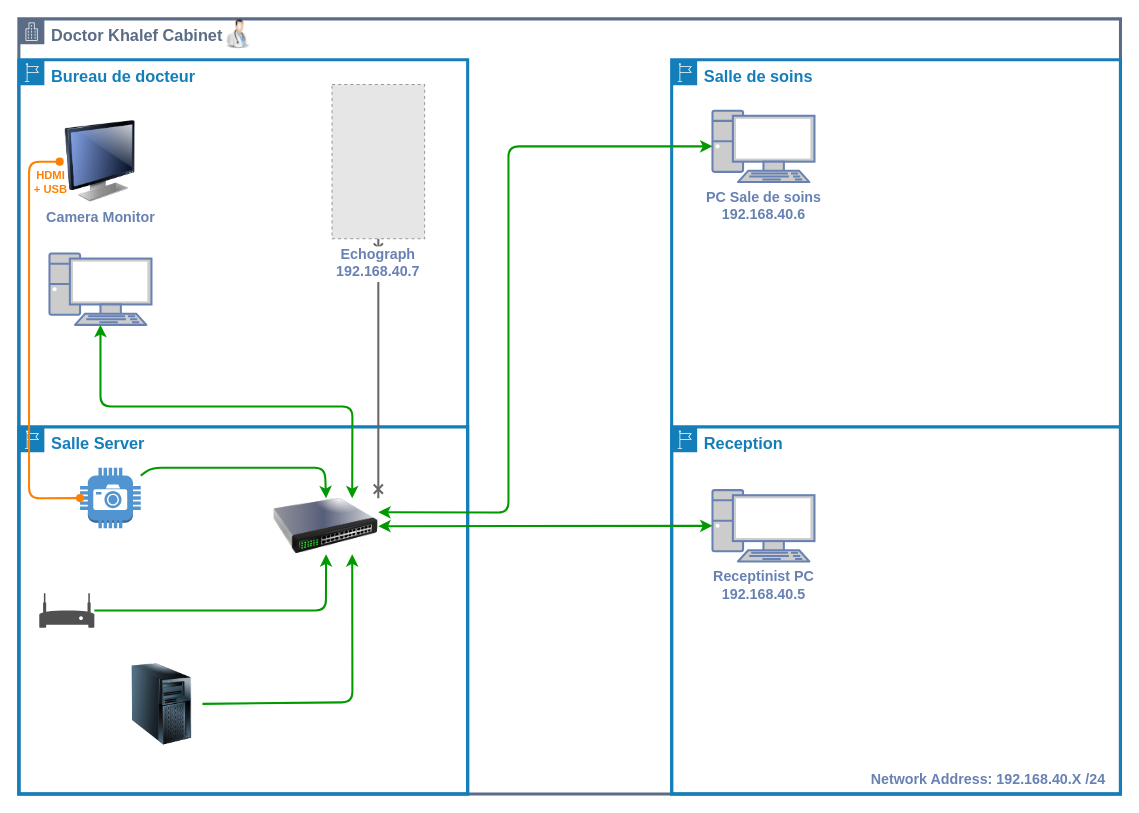
Image size: 1139x813. Some labels were removed from this diagram. Grey dashed boxes stand in for pictures. The shapes that lost their labels are listed below. From the top down, each one's centre as x and y in pixels, then its label:
the point at 100,288: Doctor PC 192.168.40.3
the point at 110,497: DVR Camera de Surveillance 192.168.40.4
the point at 66,610: Modem ZTE 192.168.40.1
the point at 161,704: Server 192.168.40.2
